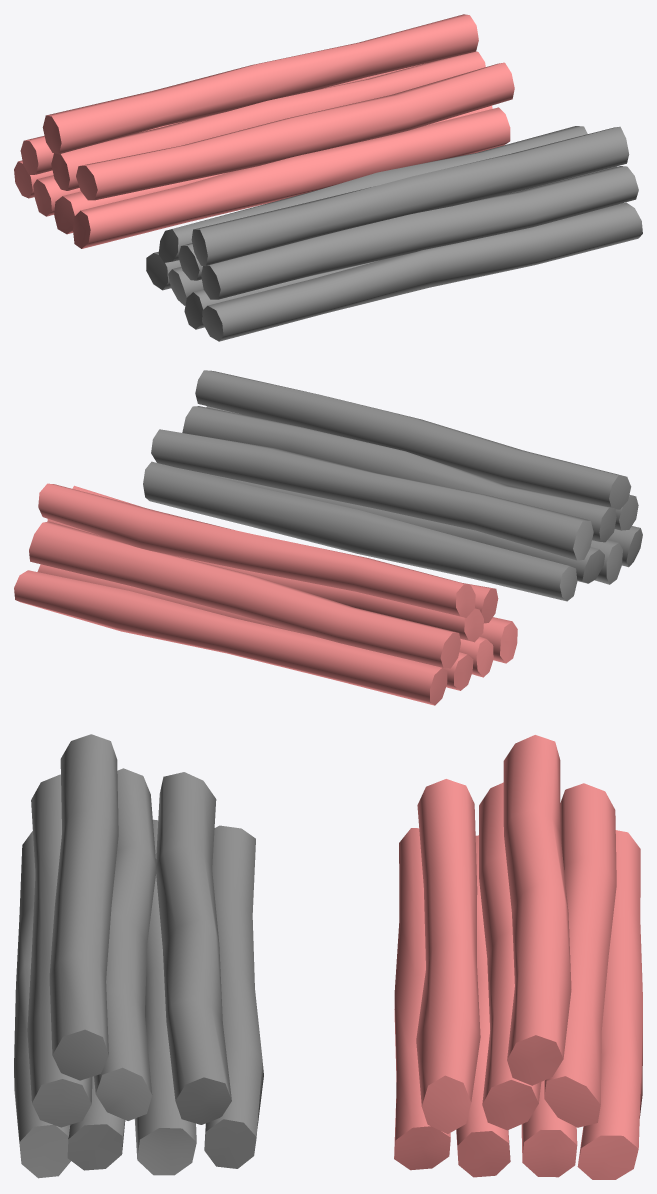
File: Logs.FBX
3 renders of one model, top to bottom at view 1: azimuth 30°, elevation 25°; view 2: azimuth 150°, elevation 25°; view 3: azimuth 270°, elevation 25°, orthographic. The views are drawn at different scales.
Parts seen in each view (by area): view 1: Log_01, Log_02; view 2: Log_02, Log_01; view 3: Log_01, Log_02.
Boxes of the visible parts, x1,y1,x2,y2 form: Log_01: (14, 14, 514, 248); Log_02: (146, 126, 642, 341); Log_02: (143, 370, 642, 601); Log_01: (14, 483, 517, 705); Log_01: (394, 735, 642, 1179); Log_02: (14, 734, 263, 1178).
Size of the model in its own units: 595 by 139 by 510.
